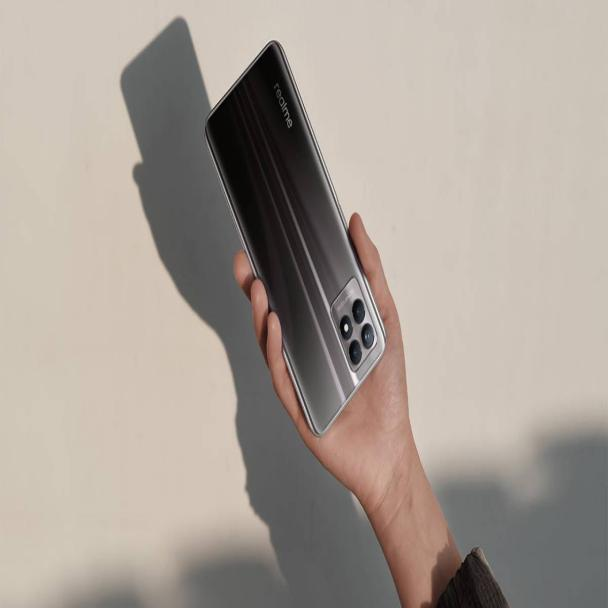Handphone: (203, 27, 389, 445)
